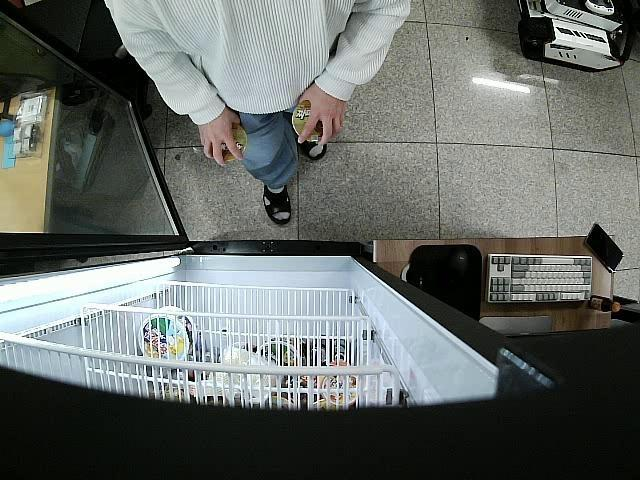04_chapagetti_S: (292, 101, 329, 142), (217, 122, 249, 164)
